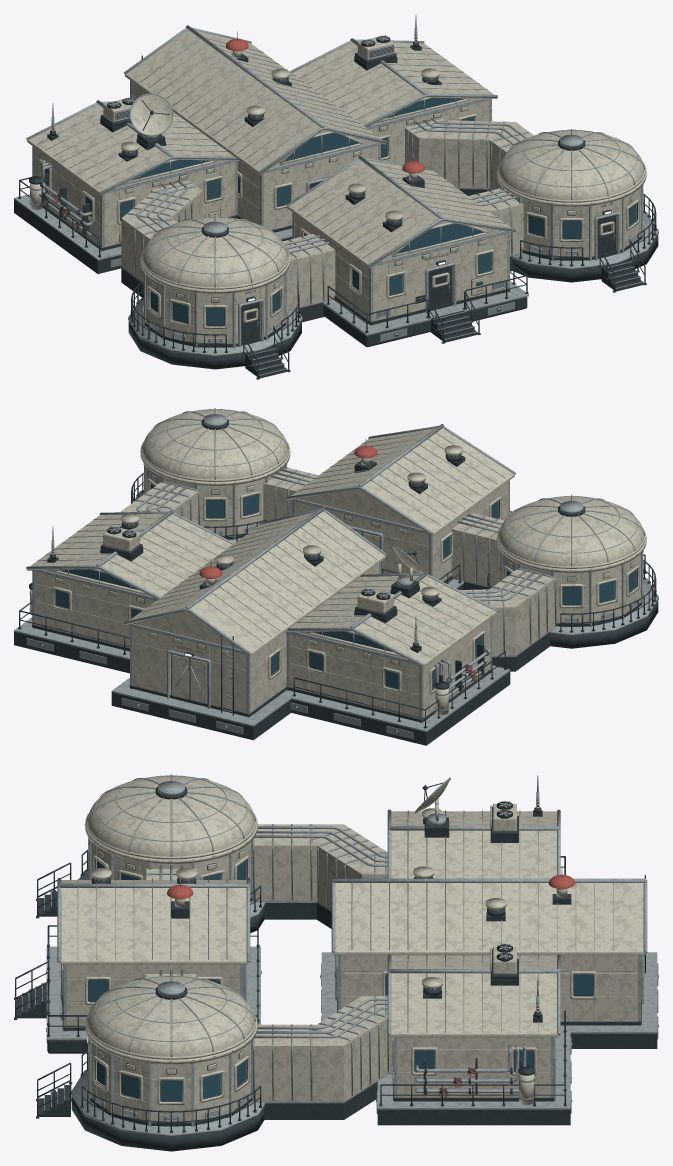
File: SurfaceResearchStation.fbx
3 renders of one model, top to bottom at view 1: azimuth 30°, elevation 25°; view 2: azimuth 150°, elevation 25°; view 3: azimuth 270°, elevation 25°, orthographic. The views are drawn at different scales.
Visible parts, largest first — view 1: Research_Spine__Roofs__IvoryPaint, Command_Access__Roofs__IvoryPaint, West_Laboratory__Roofs__IvoryPaint, East_Laboratory__Roofs__IvoryPaint, West_Habitat__Roofs__IvoryPaint, East_Habitat__Roofs__IvoryPaint, Command_Access__Shell__IvoryPaint, East_Rear_Link__Shell__IvoryPaint, West_Laboratory__Shell__IvoryPaint, Research_Spine__Shell__IvoryPaint, Research_Spine__Roofs__RoofAlloy, West_Habitat__Shell__IvoryPaint (+56 smaller); view 2: Research_Spine__Roofs__IvoryPaint, Command_Access__Roofs__IvoryPaint, Research_Spine__Shell__IvoryPaint, West_Laboratory__Roofs__IvoryPaint, East_Laboratory__Roofs__IvoryPaint, West_Habitat__Roofs__IvoryPaint, East_Habitat__Roofs__IvoryPaint, West_Laboratory__Shell__IvoryPaint, Rear_Shared_Foundation__Decks__Graphite, Command_Access__Shell__IvoryPaint, Rear_Shared_Foundation__Decks__RoofAlloy, East_Laboratory__Shell__IvoryPaint (+45 smaller); view 3: Research_Spine__Roofs__IvoryPaint, Command_Access__Roofs__IvoryPaint, East_Laboratory__Roofs__IvoryPaint, East_Habitat__Roofs__IvoryPaint, West_Habitat__Roofs__IvoryPaint, West_Laboratory__Roofs__IvoryPaint, East_Rear_Link__Shell__IvoryPaint, West_Rear_Link__Shell__IvoryPaint, East_Laboratory__Shell__IvoryPaint, Research_Spine__Shell__IvoryPaint, Rear_Shared_Foundation__Decks__RoofAlloy, East_Habitat__Shell__IvoryPaint (+37 smaller).
Boxes of the visible parts, bbox=[...] form: Research_Spine__Roofs__IvoryPaint: bbox=[125, 29, 385, 175]; Command_Access__Roofs__IvoryPaint: bbox=[287, 160, 514, 268]; West_Laboratory__Roofs__IvoryPaint: bbox=[27, 94, 239, 195]; East_Laboratory__Roofs__IvoryPaint: bbox=[292, 35, 496, 127]; West_Habitat__Roofs__IvoryPaint: bbox=[140, 217, 290, 293]; East_Habitat__Roofs__IvoryPaint: bbox=[497, 130, 646, 206]; Command_Access__Shell__IvoryPaint: bbox=[294, 214, 507, 324]; East_Rear_Link__Shell__IvoryPaint: bbox=[405, 118, 533, 189]; West_Laboratory__Shell__IvoryPaint: bbox=[34, 147, 235, 250]; Research_Spine__Shell__IvoryPaint: bbox=[131, 82, 378, 232]; Research_Spine__Roofs__RoofAlloy: bbox=[124, 25, 386, 173]; West_Habitat__Shell__IvoryPaint: bbox=[146, 274, 284, 343]; Research_Spine__Roofs__IvoryPaint: bbox=[125, 511, 385, 656]; Command_Access__Roofs__IvoryPaint: bbox=[287, 428, 514, 536]; Research_Spine__Shell__IvoryPaint: bbox=[132, 563, 379, 716]; West_Laboratory__Roofs__IvoryPaint: bbox=[284, 546, 496, 667]; East_Laboratory__Roofs__IvoryPaint: bbox=[27, 513, 232, 599]; West_Habitat__Roofs__IvoryPaint: bbox=[497, 496, 646, 572]; East_Habitat__Roofs__IvoryPaint: bbox=[140, 409, 290, 485]; West_Laboratory__Shell__IvoryPaint: bbox=[289, 619, 490, 722]; Rear_Shared_Foundation__Decks__Graphite: bbox=[14, 632, 510, 745]; Command_Access__Shell__IvoryPaint: bbox=[295, 482, 508, 581]; Rear_Shared_Foundation__Decks__RoofAlloy: bbox=[14, 617, 510, 732]; East_Laboratory__Shell__IvoryPaint: bbox=[35, 570, 155, 651]; Research_Spine__Roofs__IvoryPaint: bbox=[333, 866, 645, 955]; Command_Access__Roofs__IvoryPaint: bbox=[59, 868, 248, 964]; East_Laboratory__Roofs__IvoryPaint: bbox=[389, 946, 558, 1037]; East_Habitat__Roofs__IvoryPaint: bbox=[85, 976, 257, 1064]; West_Habitat__Roofs__IvoryPaint: bbox=[85, 776, 257, 863]; West_Laboratory__Roofs__IvoryPaint: bbox=[391, 779, 556, 878]; East_Rear_Link__Shell__IvoryPaint: bbox=[253, 996, 393, 1101]; West_Rear_Link__Shell__IvoryPaint: bbox=[254, 824, 387, 910]; East_Laboratory__Shell__IvoryPaint: bbox=[397, 1037, 551, 1101]; Research_Spine__Shell__IvoryPaint: bbox=[341, 955, 637, 1025]; Rear_Shared_Foundation__Decks__RoofAlloy: bbox=[321, 876, 657, 1109]; East_Habitat__Shell__IvoryPaint: bbox=[91, 1042, 250, 1122].
Size of the model in its own units: 3076 by 802 by 2940.
9 materials, 3 textured.
